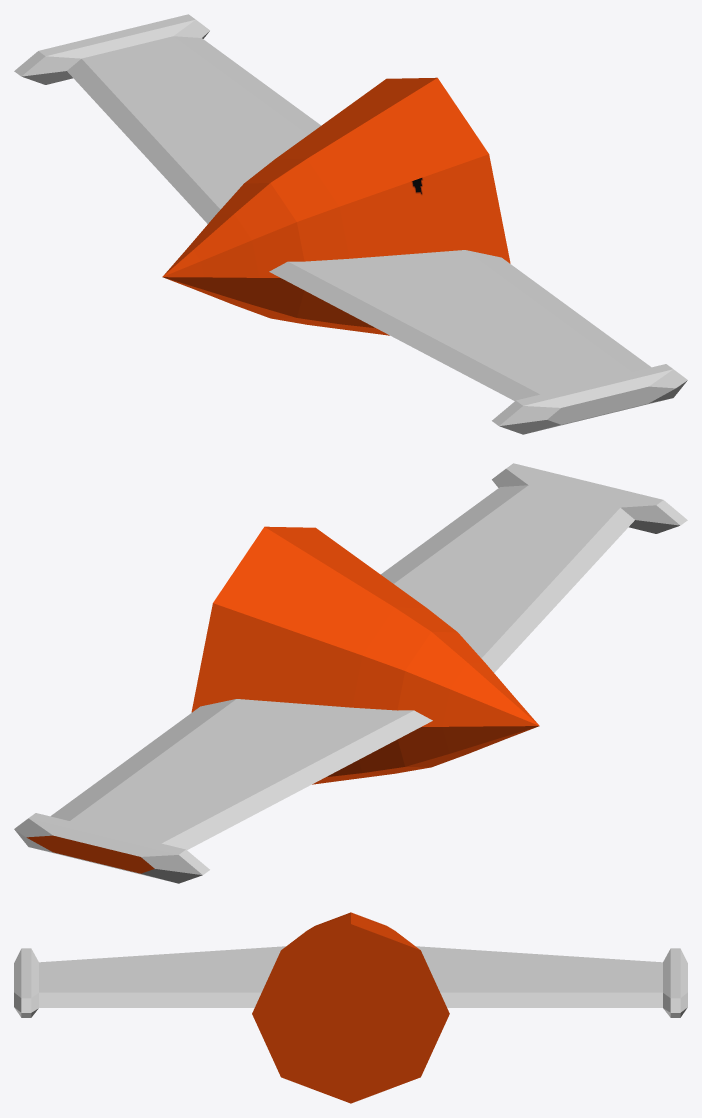
The model's file is Nez_4.FBX.
3 renders of one model, top to bottom at view 1: azimuth 30°, elevation 25°; view 2: azimuth 150°, elevation 25°; view 3: azimuth 270°, elevation 25°, orthographic. The views are drawn at different scales.
Visible parts, largest first — view 1: Object009; view 2: Object009; view 3: Object009.
Part boxes in pixels (bbox=[...]): Object009: bbox=[14, 14, 687, 434]; Object009: bbox=[14, 463, 687, 883]; Object009: bbox=[14, 912, 687, 1103].
Size of the model in its own units: 22.58 by 20.12 by 68.43.
